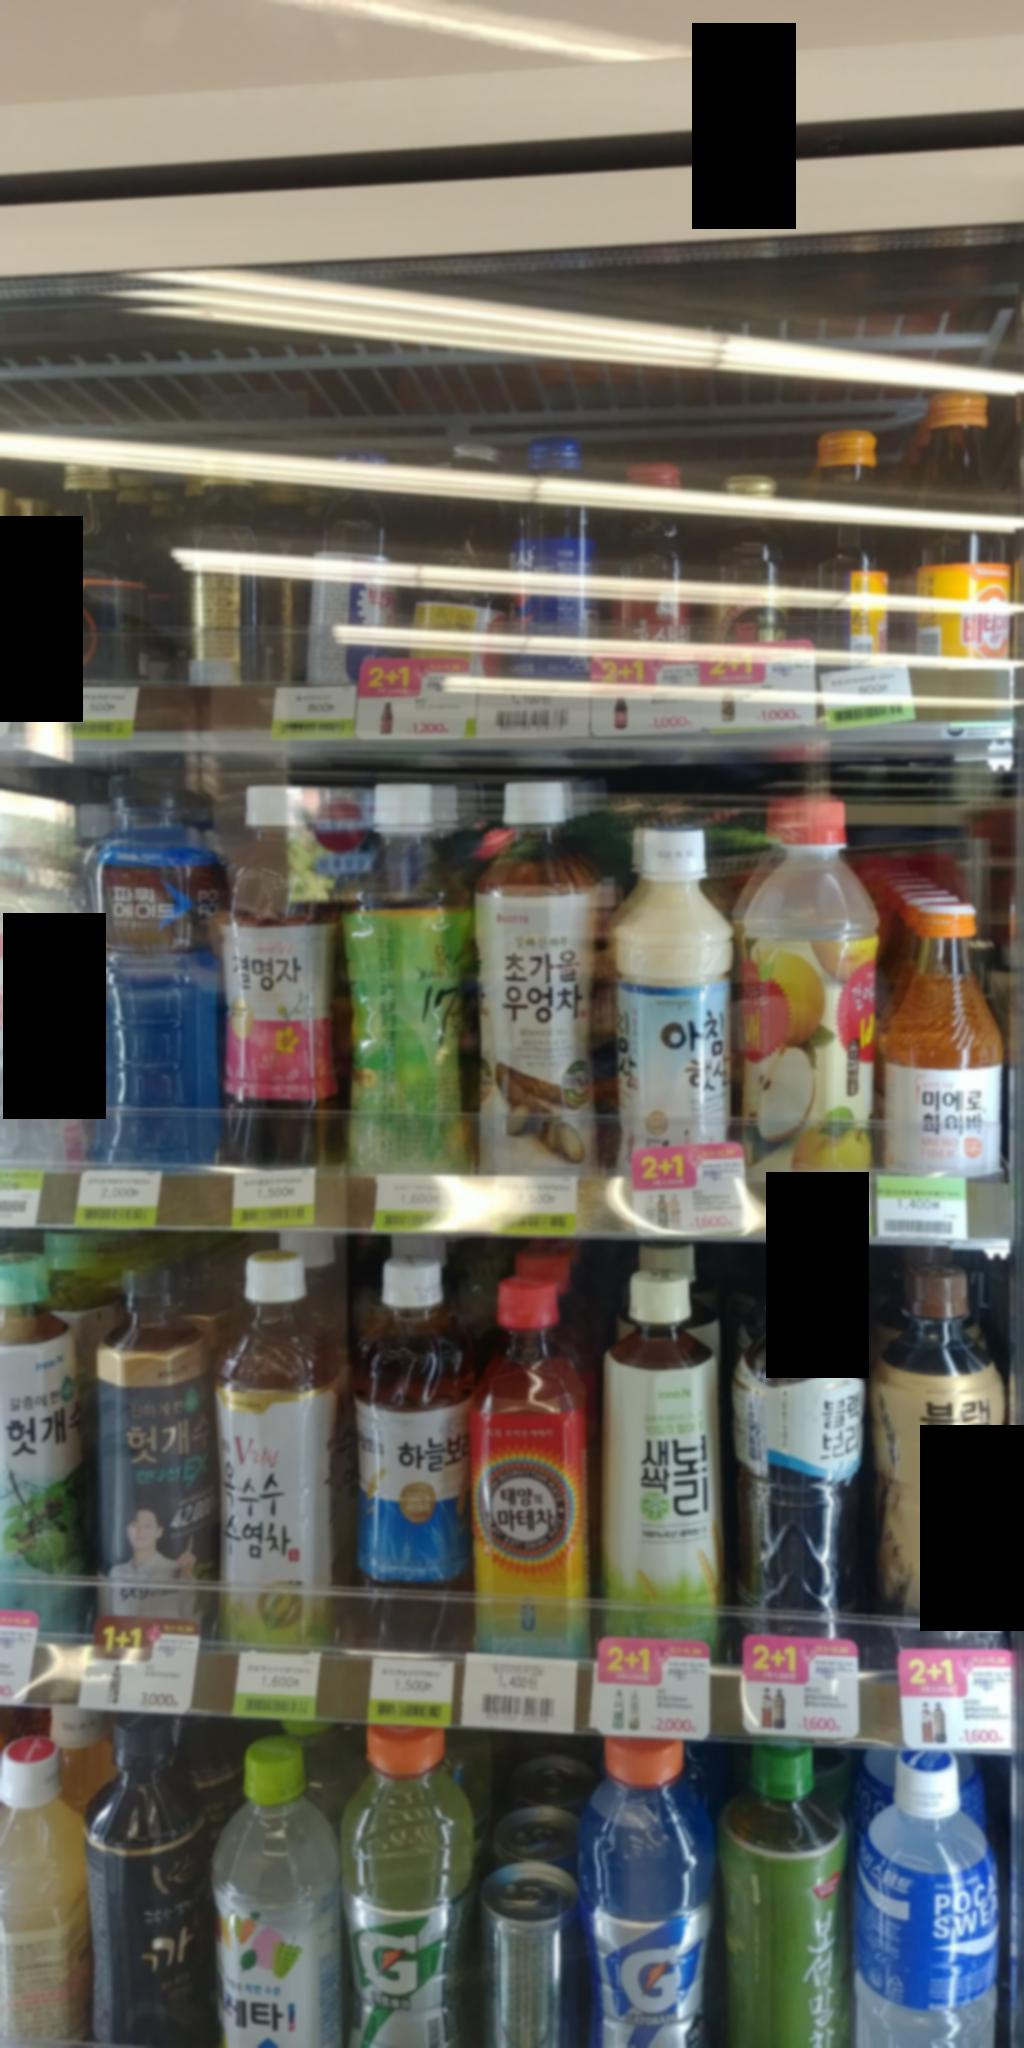gatorade_lemon: (336, 1723, 485, 2047)
haneulbori: (334, 1255, 487, 1656)
oksususuyeomcha: (202, 1241, 350, 1642)
pocarisweat: (841, 1748, 1024, 2047)
powerade_mountainblast: (77, 775, 231, 1172)
toreta: (199, 1731, 340, 2048)
